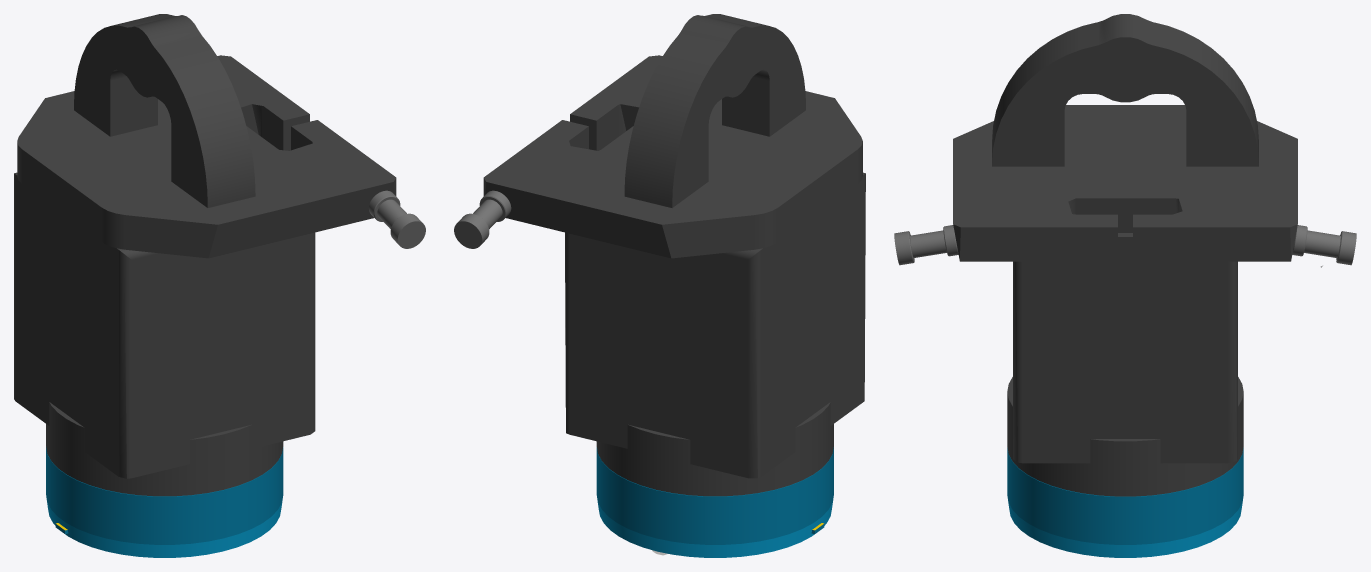
The model's file is hip_sphere_link.dae.
3 views of the same model, side by side, from view 1: azimuth 30°, elevation 25°; view 2: azimuth 150°, elevation 25°; view 3: azimuth 270°, elevation 25° (orthographic).
Visible parts, largest first — view 1: FBXASC227FBXASC130FBXASC189FBXASC227FBXASC131FBXASC170FBXASC (×7); view 2: FBXASC227FBXASC130FBXASC189FBXASC227FBXASC131FBXASC170FBXASC (×7); view 3: FBXASC227FBXASC130FBXASC189FBXASC227FBXASC131FBXASC170FBXASC (×8).
Boxes of the visible parts, bbox=[...] form: FBXASC227FBXASC130FBXASC189FBXASC227FBXASC131FBXASC170FBXASC (×7): bbox=[14, 14, 425, 557]; FBXASC227FBXASC130FBXASC189FBXASC227FBXASC131FBXASC170FBXASC (×7): bbox=[454, 14, 865, 557]; FBXASC227FBXASC130FBXASC189FBXASC227FBXASC131FBXASC170FBXASC (×8): bbox=[894, 14, 1356, 557].
Bounding box in the file's own units: 0.0767 × 0.1213 × 0.1419.
